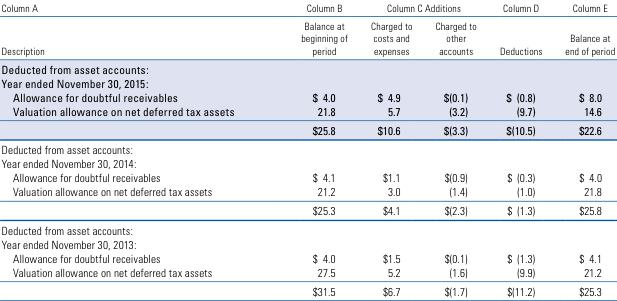table: (0, 0, 614, 297)
table column: (0, 0, 266, 297), (266, 0, 358, 297), (422, 0, 487, 297), (487, 0, 552, 297), (358, 0, 422, 297), (552, 0, 614, 297)
table column header: (0, 0, 614, 59)
table projected row header: (0, 139, 614, 156), (0, 59, 614, 75), (0, 220, 614, 236), (0, 75, 614, 89), (0, 156, 614, 170), (0, 236, 614, 250)
table row: (0, 15, 614, 59), (0, 200, 614, 220), (0, 120, 614, 139), (0, 103, 614, 120), (0, 139, 614, 156), (0, 264, 614, 281), (0, 59, 614, 75), (0, 184, 614, 200), (0, 220, 614, 236), (0, 281, 614, 297), (0, 0, 614, 15), (0, 75, 614, 89), (0, 89, 614, 103), (0, 156, 614, 170), (0, 170, 614, 184), (0, 236, 614, 250), (0, 250, 614, 264)
table spanning cell: (0, 0, 266, 59), (266, 0, 358, 59), (487, 0, 552, 59), (552, 0, 614, 59), (358, 0, 487, 15)
